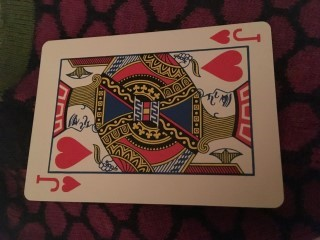JackOfHearts: (23, 21, 284, 208)
